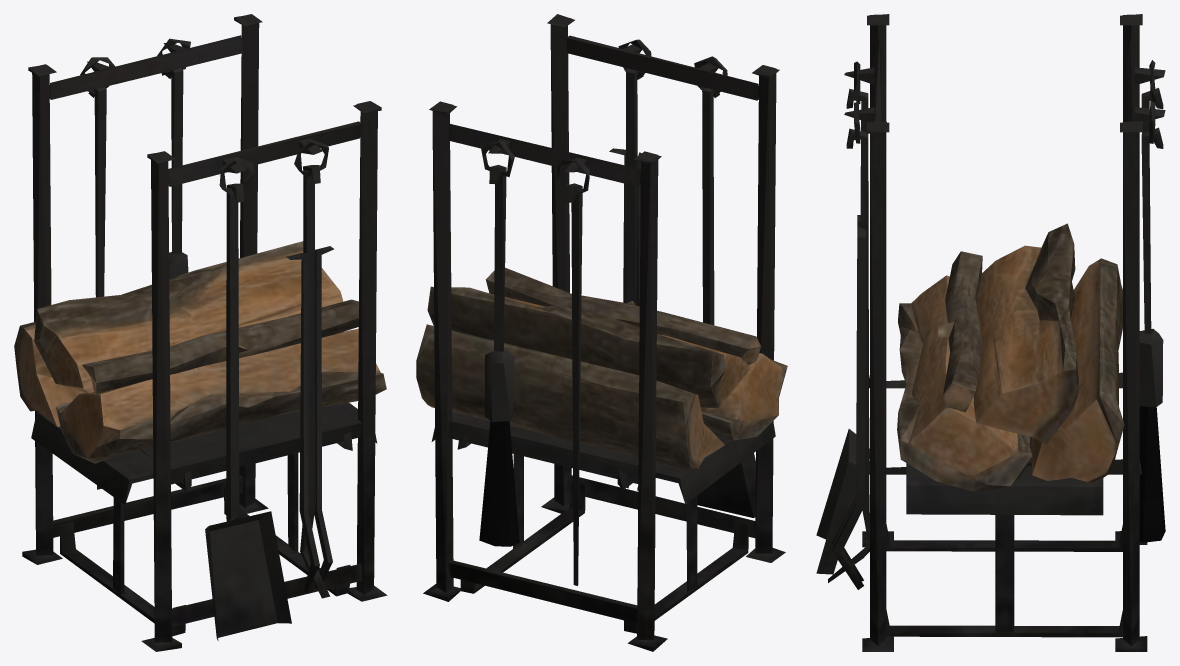
Rendered from fireplace-tools-a.lod1.glb.
3 views of the same model, side by side, from view 1: azimuth 30°, elevation 25°; view 2: azimuth 150°, elevation 25°; view 3: azimuth 270°, elevation 25° (orthographic). The views are drawn at different scales.
Visible parts, largest first — view 1: fireplace-tools-a; view 2: fireplace-tools-a; view 3: fireplace-tools-a.
Part boxes in pixels (x1=…): fireplace-tools-a: x1=14, y1=14, x2=387, y2=651; fireplace-tools-a: x1=416, y1=14, x2=787, y2=651; fireplace-tools-a: x1=816, y1=14, x2=1165, y2=651.
Size of the model in its own units: 0.4669 by 0.7463 by 0.4522.
Materials: 2 (2 with a texture image).
